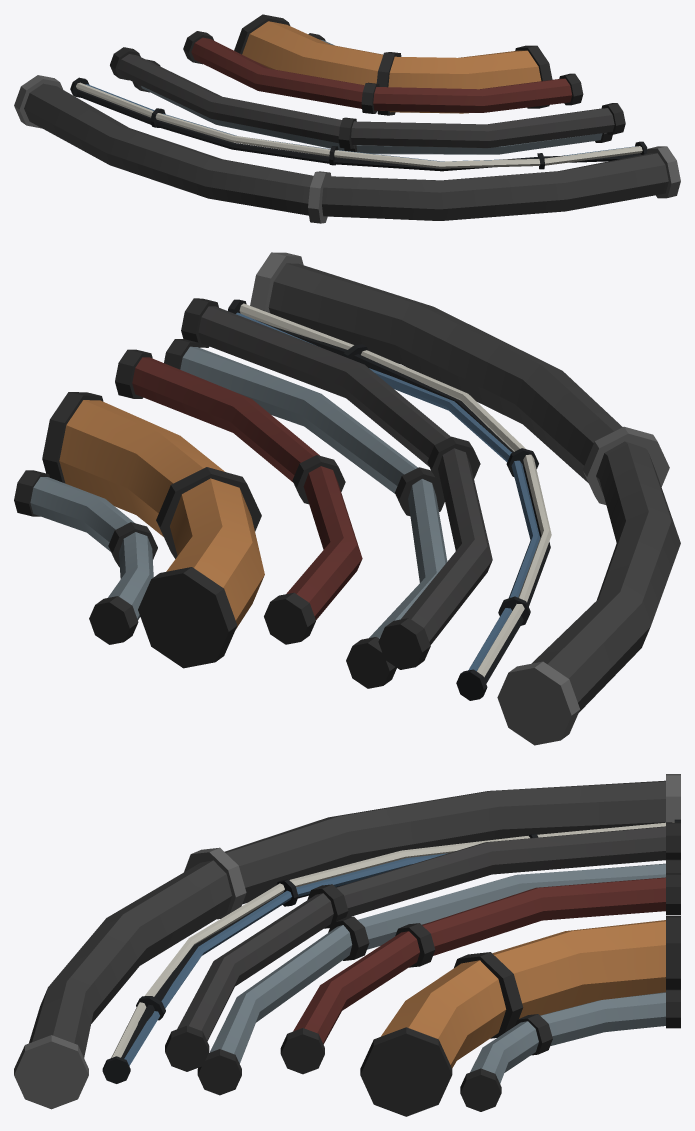
Rendered from space_SM_Bld_Ceiling_Pipes_Turn_L_01.gltf.
3 views of the same model, one above another, from view 1: azimuth 30°, elevation 25°; view 2: azimuth 150°, elevation 25°; view 3: azimuth 270°, elevation 25° (orthographic). The views are drawn at different scales.
Parts seen in each view (by area): view 1: SM_Bld_Ceiling_Pipes_Turn_L_01; view 2: SM_Bld_Ceiling_Pipes_Turn_L_01; view 3: SM_Bld_Ceiling_Pipes_Turn_L_01.
Boxes of the visible parts, left/top/right/bottom form: SM_Bld_Ceiling_Pipes_Turn_L_01: left=14, top=14, right=680, bottom=223; SM_Bld_Ceiling_Pipes_Turn_L_01: left=14, top=252, right=680, bottom=745; SM_Bld_Ceiling_Pipes_Turn_L_01: left=14, top=774, right=680, bottom=1116.
Bounding box in the file's own units: 3.94 × 0.5536 × 3.94.
Materials: 1 (1 with a texture image).
